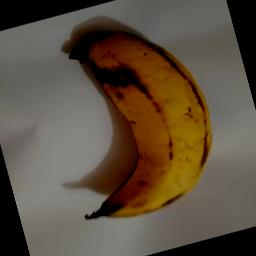Banana Unripe: (39, 6, 228, 227)
